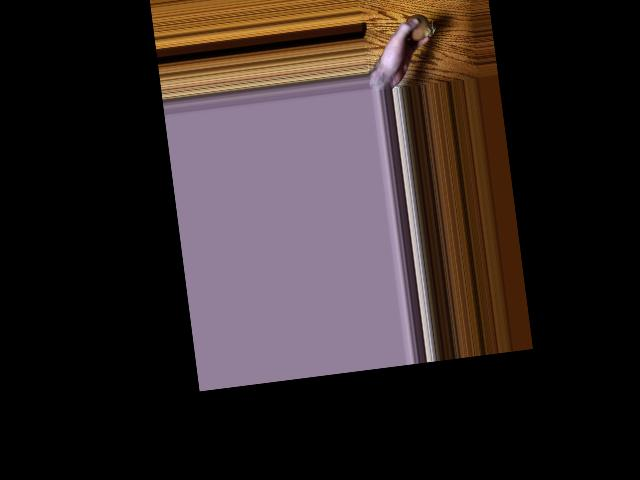onion: (405, 14, 428, 38)
